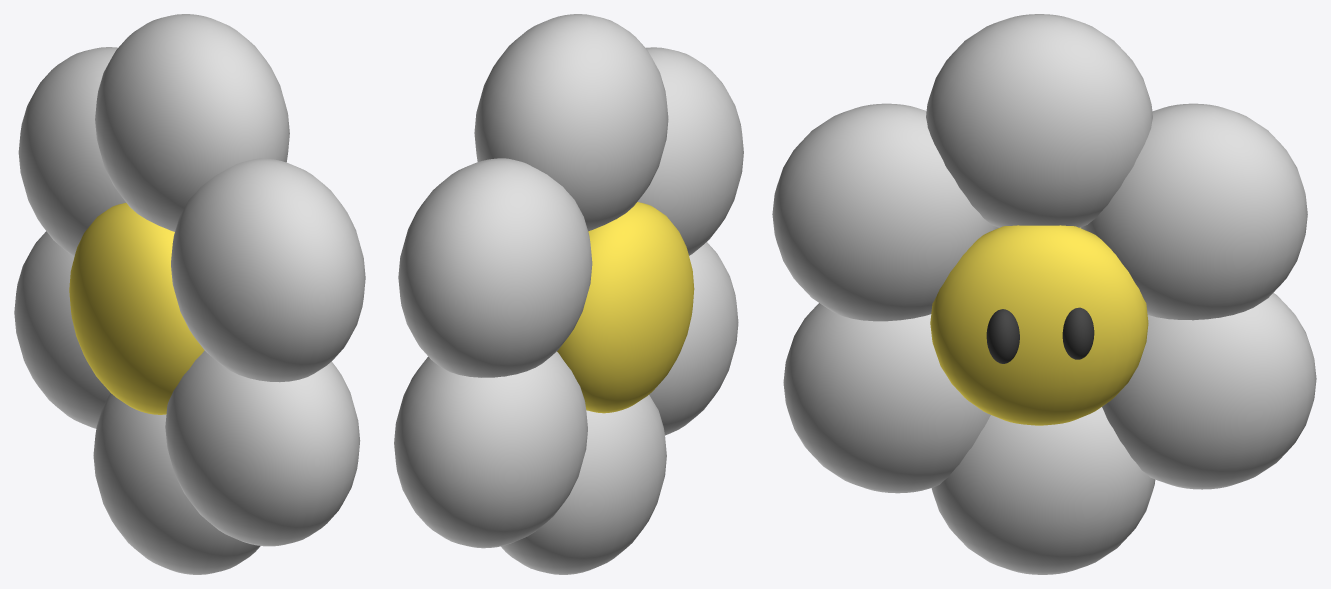
The model's file is Daisy.glb.
3 renders of one model, left to right at view 1: azimuth 30°, elevation 25°; view 2: azimuth 150°, elevation 25°; view 3: azimuth 270°, elevation 25°, orthographic.
Visible parts, largest first — view 1: Sphere.003, Sphere.001, Sphere.004, Sphere.009, Sphere.005, Sphere.002, Sphere.006; view 2: Sphere.002, Sphere.006, Sphere.001, Sphere.009, Sphere.005, Sphere.003, Sphere.004; view 3: Sphere.001, Sphere.002, Sphere.003, Sphere, Sphere.006, Sphere.004, Sphere.005, Sphere.008, Sphere.007.
Part boxes in pixels (x1,y1,x2,y2): Sphere.003: (171, 158, 365, 382); Sphere.001: (95, 14, 289, 231); Sphere.004: (165, 350, 360, 546); Sphere.009: (69, 203, 204, 414); Sphere.005: (93, 393, 260, 574); Sphere.002: (18, 47, 125, 256); Sphere.006: (14, 231, 110, 428); Sphere.002: (398, 158, 592, 377); Sphere.006: (394, 351, 587, 548); Sphere.001: (474, 14, 668, 231); Sphere.009: (557, 202, 694, 413); Sphere.005: (501, 395, 666, 574); Sphere.003: (637, 47, 743, 255); Sphere.004: (649, 242, 738, 435); Sphere.001: (926, 14, 1152, 227); Sphere.002: (1080, 103, 1307, 320); Sphere.003: (772, 103, 998, 321); Sphere: (930, 225, 1148, 425); Sphere.006: (1102, 293, 1316, 489); Sphere.004: (783, 303, 990, 493); Sphere.005: (931, 407, 1155, 574); Sphere.008: (986, 309, 1019, 363); Sphere.007: (1062, 307, 1094, 359).
Size of the model in its own units: 1.44 by 3.27 by 2.94.
